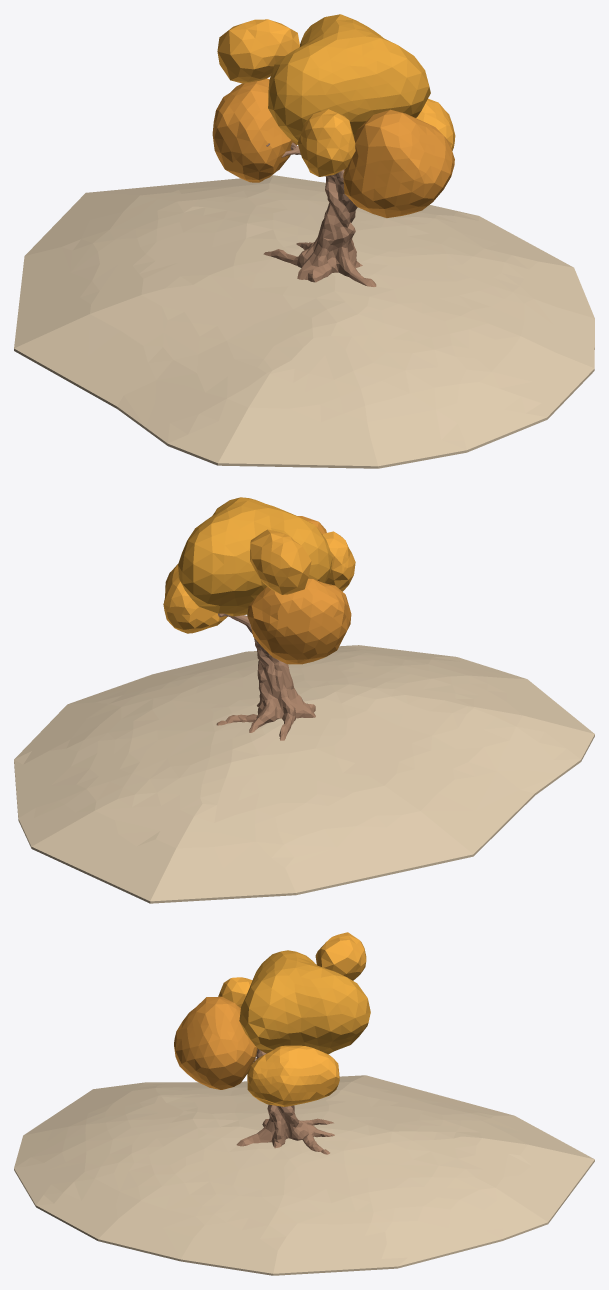
File: Tree Design v4.fbx
The picture shows the model from 3 angles, top to bottom: view 1: azimuth 30°, elevation 25°; view 2: azimuth 150°, elevation 25°; view 3: azimuth 270°, elevation 25°; orthographic projection. The views are drawn at different scales.
Parts seen in each view (by area): view 1: MeshBody20, Main, Back, Right, Trunk, Small Branch 2, Small Branch 1, Left; view 2: MeshBody20, Main, Right, Trunk, Small Branch 2, Left, Small Branch 1; view 3: MeshBody20, Main, Back, Left, Trunk, Small Branch 2, Small Branch 1.
Part boxes in pixels (x1,y1,x2,y2): MeshBody20: (14, 175, 594, 468); Main: (268, 14, 430, 144); Back: (343, 109, 454, 217); Right: (212, 78, 297, 182); Trunk: (263, 142, 376, 286); Small Branch 2: (217, 19, 299, 83); Small Branch 1: (297, 109, 355, 176); Left: (416, 98, 455, 150); MeshBody20: (14, 645, 594, 903); Main: (178, 497, 332, 616); Right: (247, 578, 351, 664); Trunk: (216, 613, 315, 740); Small Branch 2: (250, 529, 311, 594); Left: (163, 564, 227, 633); Small Branch 1: (322, 531, 355, 591); MeshBody20: (14, 1075, 594, 1275); Main: (239, 950, 370, 1054); Back: (174, 996, 257, 1089); Left: (247, 1045, 339, 1106); Trunk: (236, 1048, 334, 1154); Small Branch 2: (315, 932, 366, 980); Small Branch 1: (218, 977, 252, 1008).
Size of the model in its own units: 1068 by 578 by 1321.
